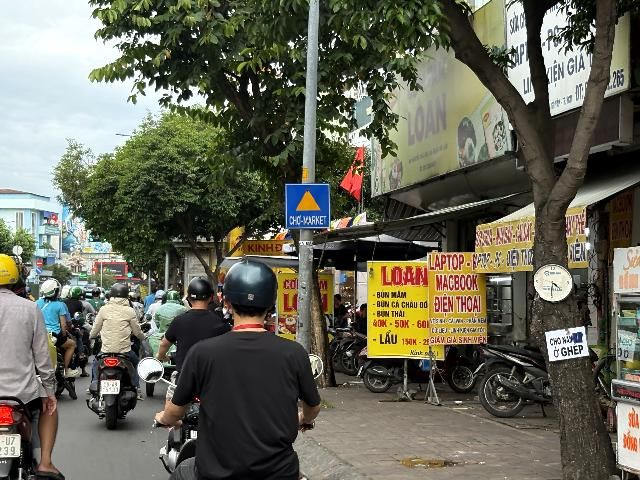khu-vuc-cho-phia-truoc: (285, 184, 331, 229)
